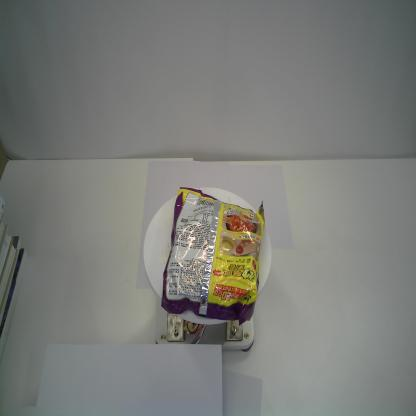Instant Noodles: (160, 185, 266, 327)
